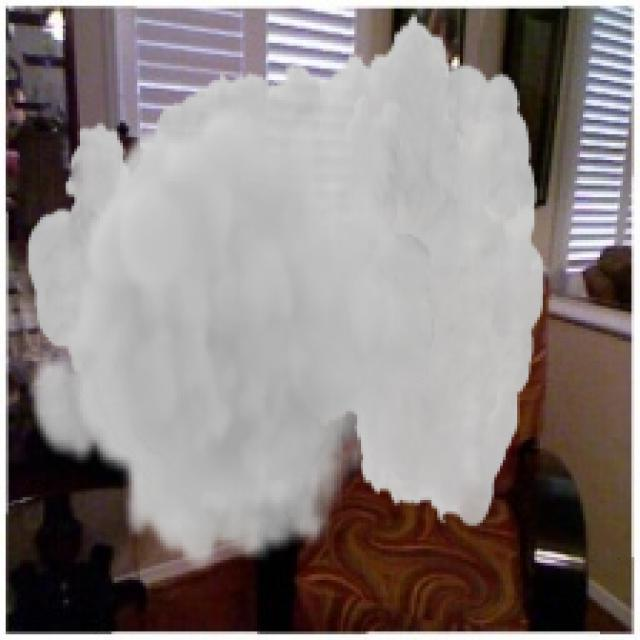Smoke: (26, 11, 546, 572)
